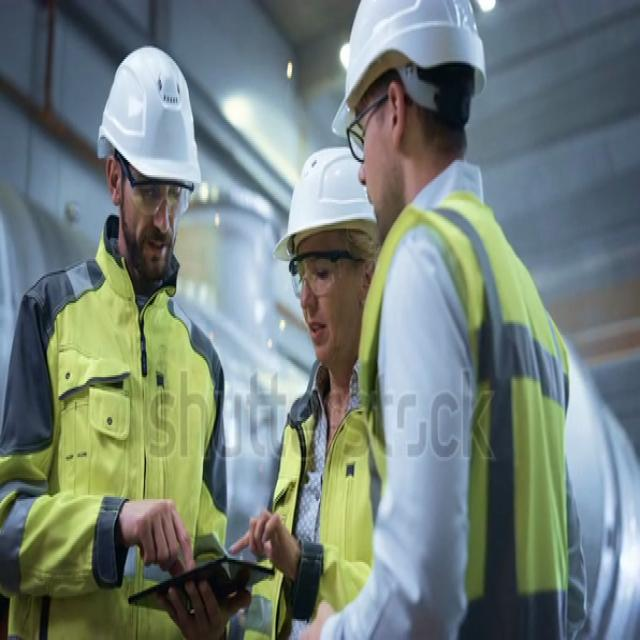goggles: (344, 87, 393, 165), (120, 167, 192, 218), (282, 252, 350, 294)
